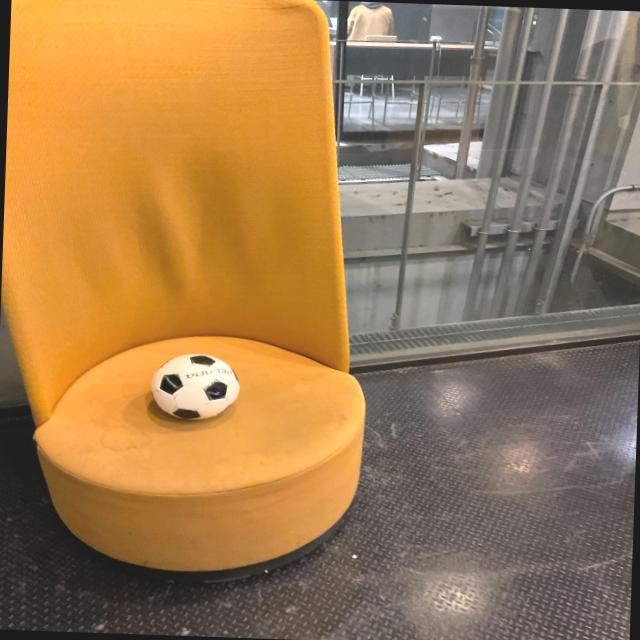Soccer Ball: (154, 354, 239, 424)
